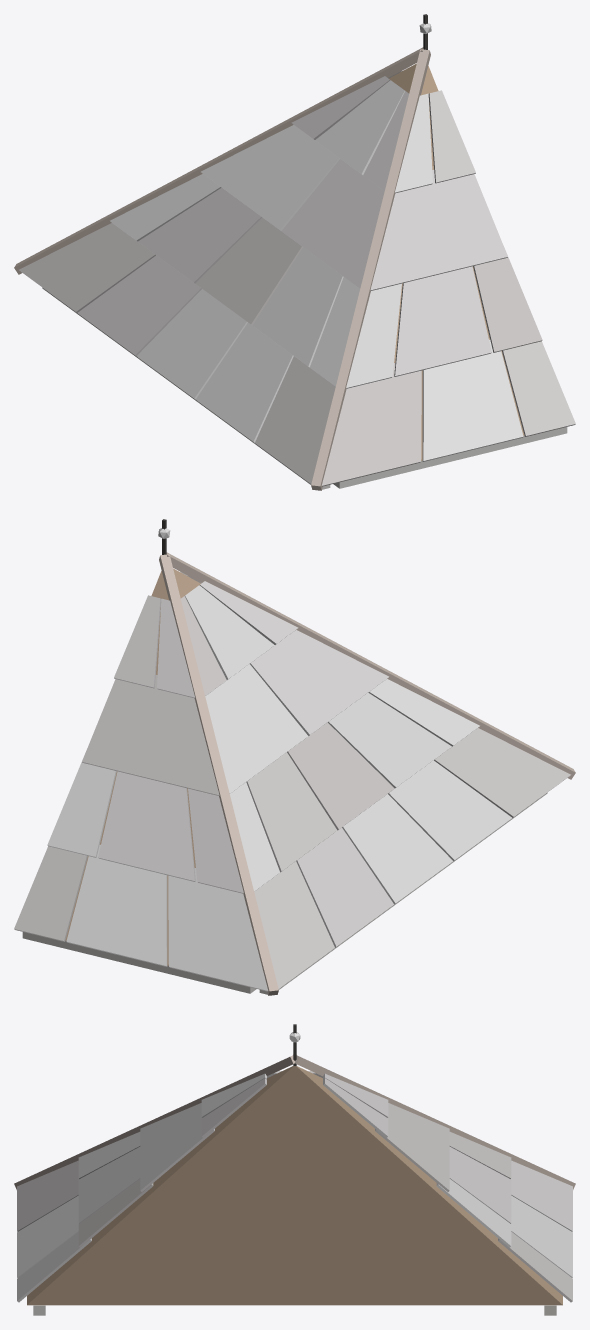
Rendered from Kit_RealKeep_RoofA_Fractured.fbx.
3 views of the same model, one above another, from view 1: azimuth 30°, elevation 25°; view 2: azimuth 150°, elevation 25°; view 3: azimuth 270°, elevation 25° (orthographic). The views are drawn at different scales.
Visible parts, largest first — view 1: Kit_RealKeep_RoofA_frag_04, Kit_RealKeep_RoofA_frag_01, Kit_RealKeep_RoofA_frag_02, Kit_RealKeep_RoofA_frag_06, Kit_RealKeep_RoofA_frag_09, Kit_RealKeep_RoofA_frag_07, Kit_RealKeep_RoofA_frag_12, Kit_RealKeep_RoofA_frag_08, Kit_RealKeep_RoofA_frag_10, Kit_RealKeep_RoofA_frag_11, Kit_RealKeep_RoofA_frag_03, Kit_RealKeep_RoofA_frag_05 (+2 smaller); view 2: Kit_RealKeep_RoofA_frag_10, Kit_RealKeep_RoofA_frag_13, Kit_RealKeep_RoofA_frag_16, Kit_RealKeep_RoofA_frag_15, Kit_RealKeep_RoofA_frag_06, Kit_RealKeep_RoofA_frag_11, Kit_RealKeep_RoofA_frag_09, Kit_RealKeep_RoofA_frag_07, Kit_RealKeep_RoofA_frag_12, Kit_RealKeep_RoofA_frag_01, Kit_RealKeep_RoofA_frag_14, Kit_RealKeep_RoofA_frag_04 (+2 smaller); view 3: Kit_RealKeep_RoofA_frag_11, Kit_RealKeep_RoofA_frag_08, Kit_RealKeep_RoofA_frag_05, Kit_RealKeep_RoofA_frag_14, Kit_RealKeep_RoofA_frag_02, Kit_RealKeep_RoofA_frag_16, Kit_RealKeep_RoofA_frag_04, Kit_RealKeep_RoofA_frag_13, Kit_RealKeep_RoofA_frag_10, Kit_RealKeep_RoofA_frag_01, Kit_RealKeep_RoofA_frag_15, Kit_RealKeep_RoofA_frag_03.
Part boxes in pixels (bbox=[...]): Kit_RealKeep_RoofA_frag_04: bbox=[321, 170, 507, 376]; Kit_RealKeep_RoofA_frag_01: bbox=[226, 331, 422, 490]; Kit_RealKeep_RoofA_frag_02: bbox=[416, 310, 575, 469]; Kit_RealKeep_RoofA_frag_06: bbox=[133, 289, 293, 442]; Kit_RealKeep_RoofA_frag_09: bbox=[138, 187, 302, 325]; Kit_RealKeep_RoofA_frag_07: bbox=[252, 159, 379, 367]; Kit_RealKeep_RoofA_frag_12: bbox=[58, 227, 201, 356]; Kit_RealKeep_RoofA_frag_08: bbox=[363, 49, 475, 198]; Kit_RealKeep_RoofA_frag_10: bbox=[201, 117, 339, 230]; Kit_RealKeep_RoofA_frag_11: bbox=[291, 14, 431, 174]; Kit_RealKeep_RoofA_frag_03: bbox=[310, 277, 401, 388]; Kit_RealKeep_RoofA_frag_05: bbox=[472, 255, 542, 352]; Kit_RealKeep_RoofA_frag_10: bbox=[82, 664, 307, 795]; Kit_RealKeep_RoofA_frag_13: bbox=[98, 745, 279, 893]; Kit_RealKeep_RoofA_frag_16: bbox=[14, 818, 195, 974]; Kit_RealKeep_RoofA_frag_15: bbox=[167, 838, 316, 995]; Kit_RealKeep_RoofA_frag_06: bbox=[342, 760, 511, 928]; Kit_RealKeep_RoofA_frag_11: bbox=[114, 519, 274, 703]; Kit_RealKeep_RoofA_frag_09: bbox=[246, 722, 394, 872]; Kit_RealKeep_RoofA_frag_07: bbox=[250, 634, 451, 788]; Kit_RealKeep_RoofA_frag_12: bbox=[258, 827, 393, 961]; Kit_RealKeep_RoofA_frag_01: bbox=[433, 697, 575, 860]; Kit_RealKeep_RoofA_frag_14: bbox=[47, 760, 117, 857]; Kit_RealKeep_RoofA_frag_04: bbox=[290, 622, 393, 706]; Kit_RealKeep_RoofA_frag_11: bbox=[281, 1024, 390, 1305]; Kit_RealKeep_RoofA_frag_08: bbox=[199, 1055, 295, 1305]; Kit_RealKeep_RoofA_frag_05: bbox=[78, 1138, 206, 1305]; Kit_RealKeep_RoofA_frag_14: bbox=[385, 1140, 511, 1305]; Kit_RealKeep_RoofA_frag_02: bbox=[17, 1195, 117, 1315]; Kit_RealKeep_RoofA_frag_16: bbox=[475, 1195, 572, 1315]; Kit_RealKeep_RoofA_frag_04: bbox=[78, 1098, 214, 1223]; Kit_RealKeep_RoofA_frag_13: bbox=[420, 1112, 511, 1223]; Kit_RealKeep_RoofA_frag_10: bbox=[375, 1098, 449, 1191]; Kit_RealKeep_RoofA_frag_01: bbox=[14, 1142, 103, 1231]; Kit_RealKeep_RoofA_frag_15: bbox=[486, 1142, 575, 1231]; Kit_RealKeep_RoofA_frag_03: bbox=[78, 1124, 143, 1178].
Size of what is drawn, in the model's own units: 3.2 by 3.58 by 6.27.
